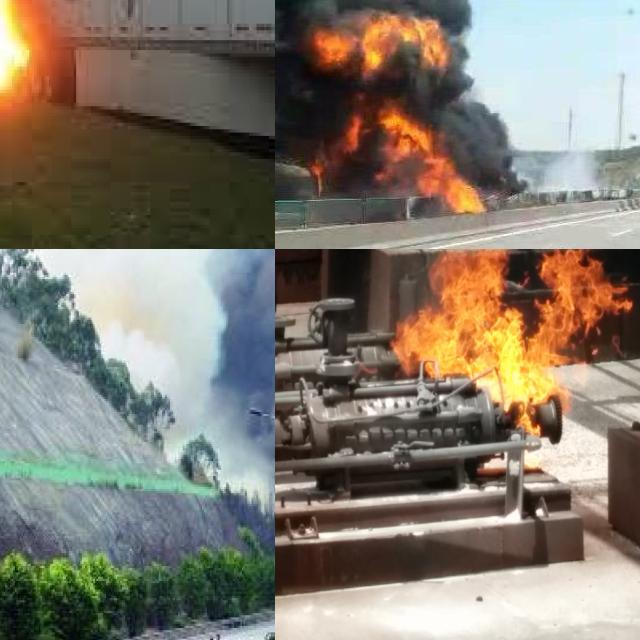fire: (400, 249, 621, 450), (296, 13, 496, 215)
smoke: (275, 0, 519, 183), (0, 249, 206, 435)
